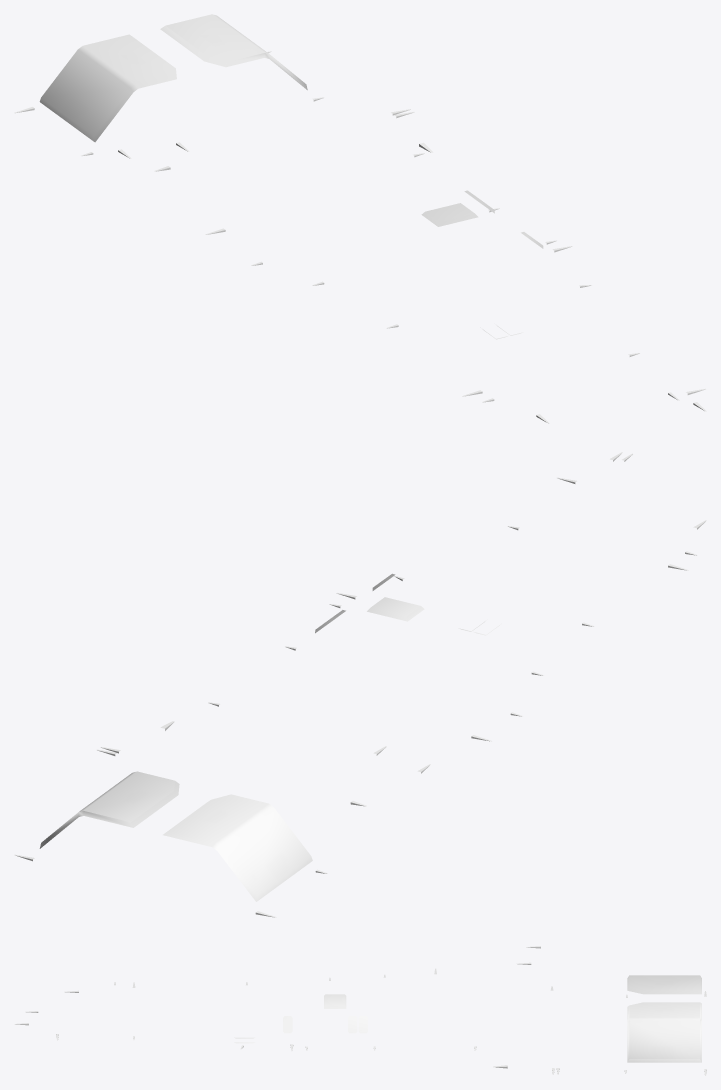
Rendered from hgn_flagship_expedition_ship_01.glb.
3 views of the same model, one above another, from view 1: azimuth 30°, elevation 25°; view 2: azimuth 150°, elevation 25°; view 3: azimuth 270°, elevation 25° (orthographic). The views are drawn at different scales.
Visible parts, largest first — view 1: hgn_fs_expe_01_t1_LOD0; view 2: hgn_fs_expe_01_t1_LOD0; view 3: hgn_fs_expe_01_t1_LOD0.
Boxes of the visible parts, x1,y1,x2,y2 form: hgn_fs_expe_01_t1_LOD0: (14,14,706,423); hgn_fs_expe_01_t1_LOD0: (14,452,706,917); hgn_fs_expe_01_t1_LOD0: (14,946,706,1075).
Size of what is drawn, in the model's own units: 3.58 by 0.7465 by 10.49.
Materials: 1 (1 with a texture image).
